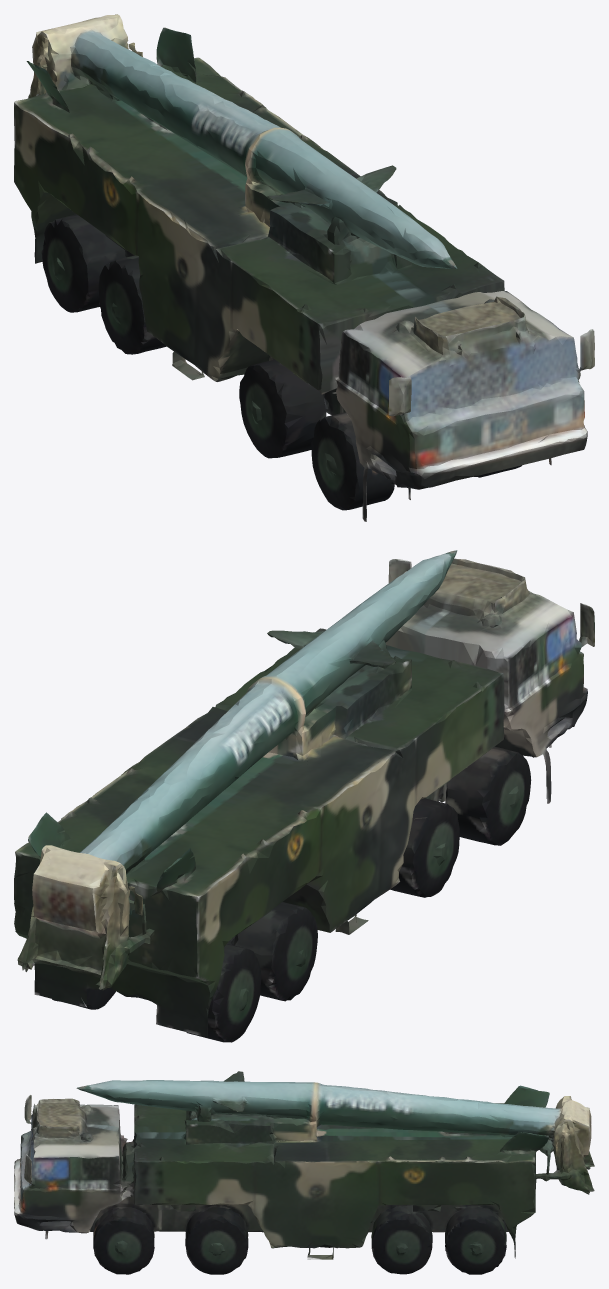
The model's file is Dongfeng-15_Missile_Launcher_AI_Rodin.glb.
The picture shows the model from 3 angles, top to bottom: view 1: azimuth 30°, elevation 25°; view 2: azimuth 150°, elevation 25°; view 3: azimuth 270°, elevation 25°; orthographic projection. The views are drawn at different scales.
Parts seen in each view (by area): view 1: model; view 2: model; view 3: model.
Boxes of the visible parts, left/top/right/bottom form: model: left=14, top=14, right=594, bottom=521; model: left=14, top=550, right=594, bottom=1042; model: left=14, top=1071, right=594, bottom=1274.
Size of the model in its own units: 0.509 by 0.6002 by 1.9.
1 material, 1 textured.
